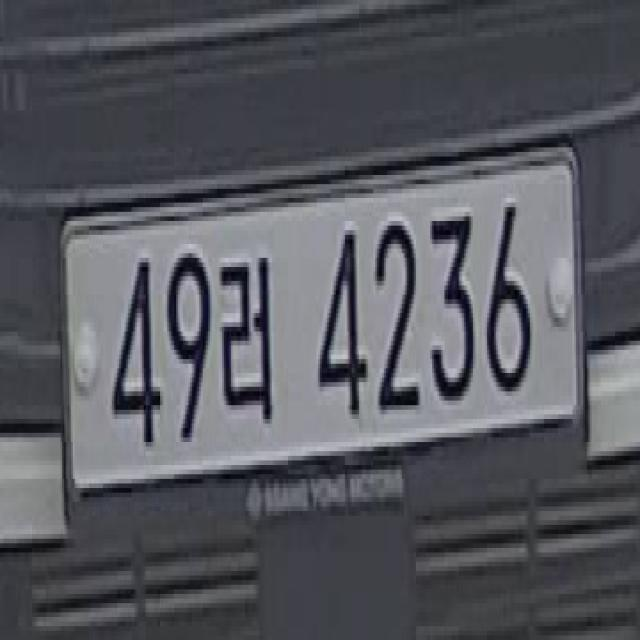2: (377, 206, 424, 436)
3: (430, 187, 480, 416)
4: (316, 210, 372, 436), (111, 232, 162, 461)
6: (486, 186, 532, 407)
9: (166, 234, 212, 454)
leo: (220, 230, 278, 445)
license_plate: (58, 135, 585, 522)
